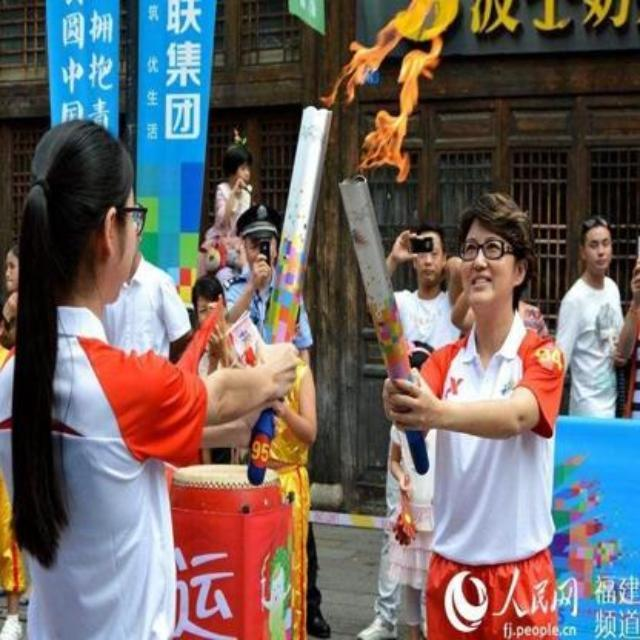Fire: (321, 6, 445, 178)
